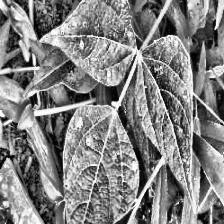Bean Rust: (60, 106, 142, 224), (43, 0, 137, 87)
